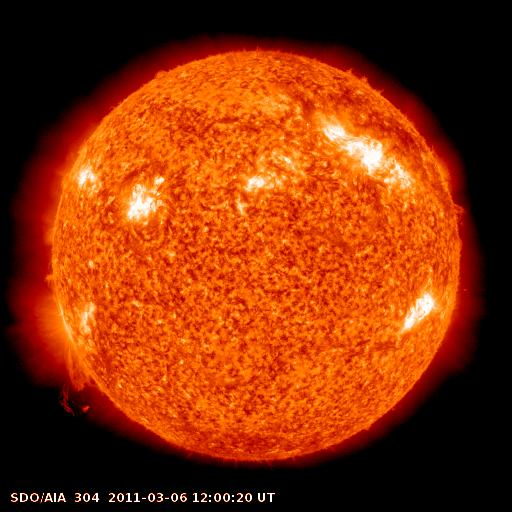prominence: (50, 345, 106, 422), (32, 251, 71, 300), (439, 198, 477, 233)
